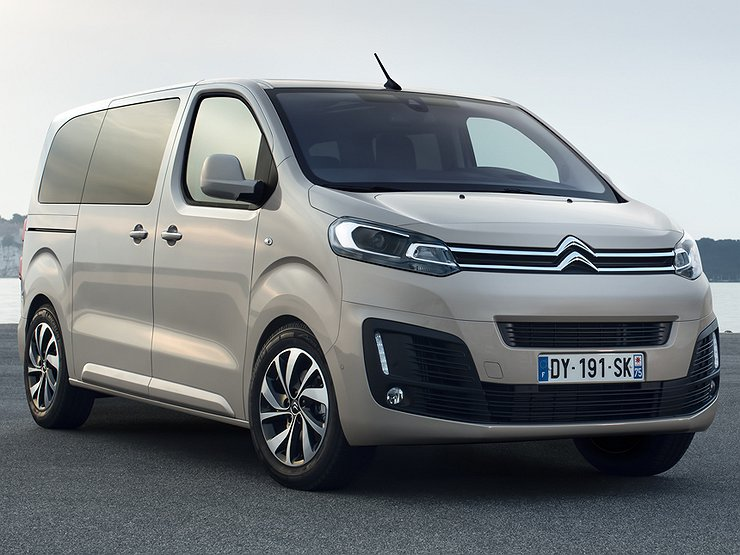van: (21, 78, 718, 490)
